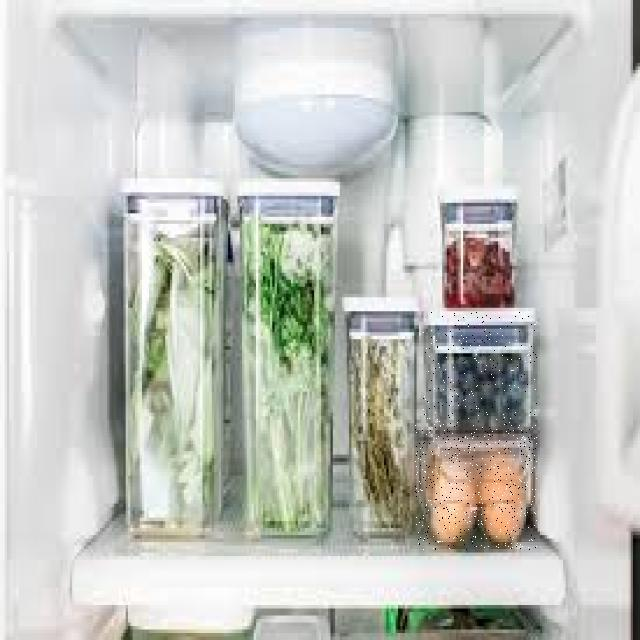blueberries: (422, 312, 537, 425)
eggs: (415, 425, 537, 550)
